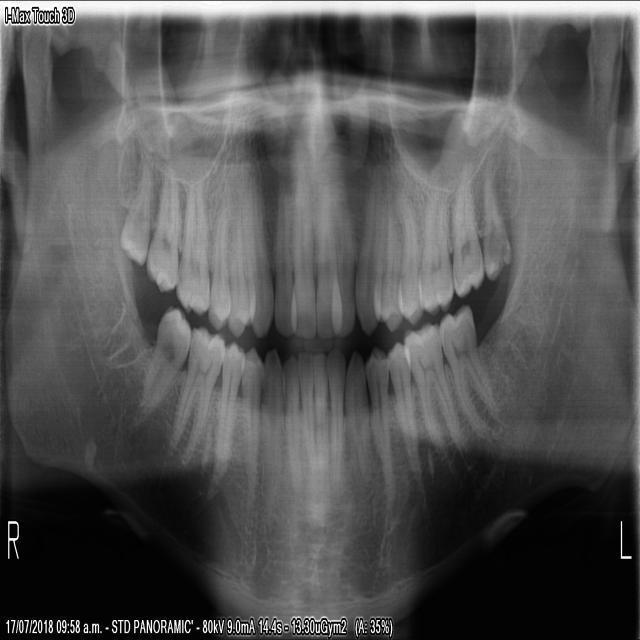LCD: (343, 349, 371, 501)
LCU: (352, 151, 382, 338)
LID: (325, 344, 345, 492), (312, 349, 328, 505)
LIU: (312, 146, 342, 338), (329, 153, 354, 339)
LMD: (400, 317, 463, 464), (437, 301, 495, 432)
LMU: (415, 171, 453, 316), (449, 166, 483, 299), (480, 174, 512, 281)
LPMD: (384, 334, 419, 484), (363, 344, 394, 509)
LPMU: (371, 160, 402, 333), (393, 172, 422, 326)
RCD: (259, 344, 285, 521)
RCU: (243, 153, 273, 340)
RID: (279, 351, 300, 509), (296, 348, 314, 498)
RIU: (289, 146, 317, 341), (271, 162, 296, 339)
RMD: (169, 323, 224, 463), (133, 304, 191, 423)
RMU: (173, 169, 210, 317), (142, 161, 181, 295), (115, 149, 152, 268)
RPMD: (212, 338, 244, 484), (238, 345, 263, 508)
RPMU: (225, 164, 255, 342), (205, 163, 230, 332)
